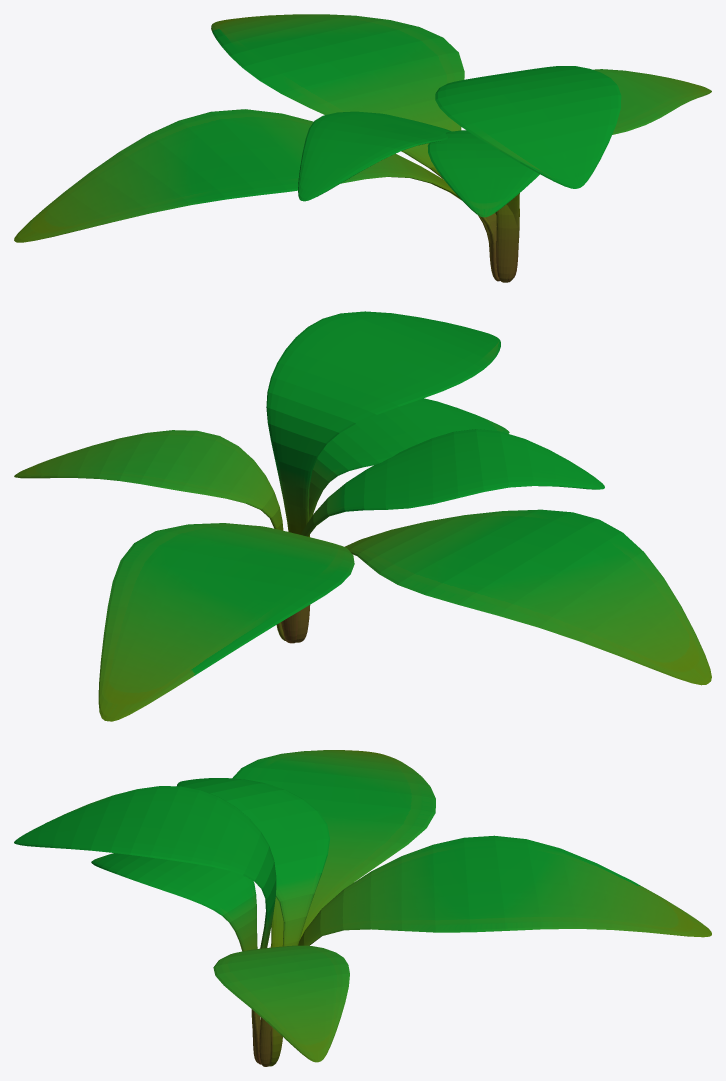
Rendered from matinaka2.glb.
3 views of the same model, one above another, from view 1: azimuth 30°, elevation 25°; view 2: azimuth 150°, elevation 25°; view 3: azimuth 270°, elevation 25° (orthographic). The views are drawn at different scales.
Parts seen in each view (by area): view 1: grass1.009; view 2: grass1.009; view 3: grass1.009.
Boxes of the visible parts, x1,y1,x2,y2 form: grass1.009: (14, 14, 711, 282); grass1.009: (14, 311, 711, 721); grass1.009: (14, 750, 711, 1066).
Size of the model in its own units: 0.0353 by 0.012 by 0.0327.
Materials: 1 (1 with a texture image).
